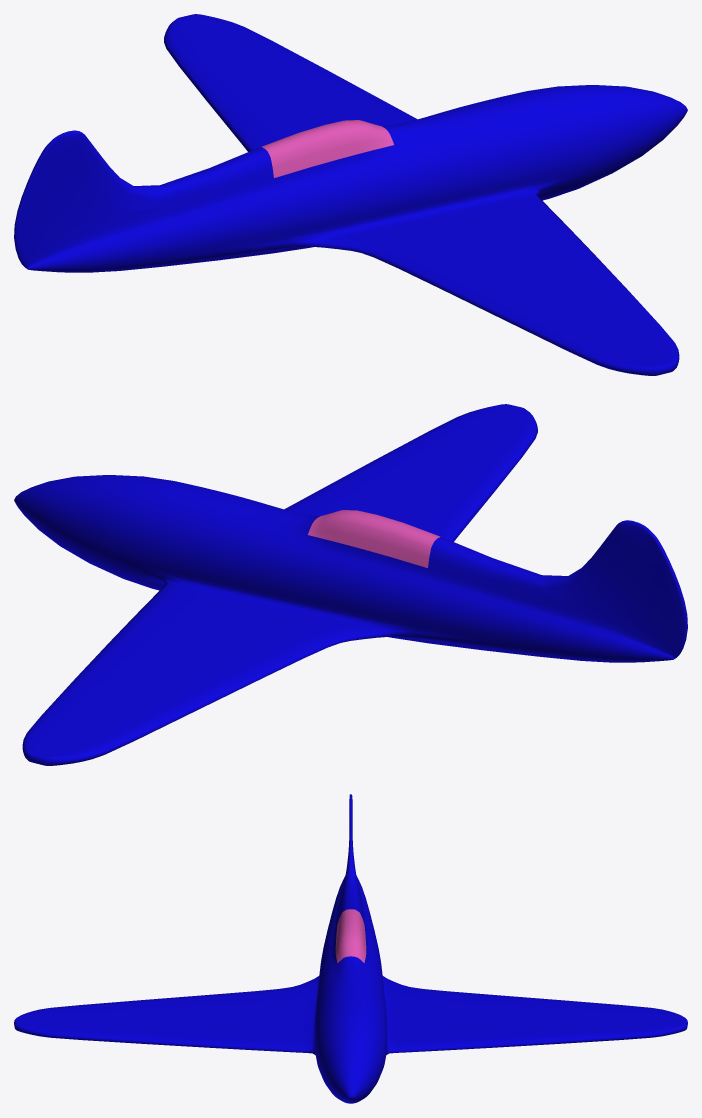
3 views of the same model, one above another, from view 1: azimuth 30°, elevation 25°; view 2: azimuth 150°, elevation 25°; view 3: azimuth 270°, elevation 25° (orthographic). The views are drawn at different scales.
Visible parts, largest first — view 1: planeLP; view 2: planeLP; view 3: planeLP.
Part boxes in pixels (bbox=[...]): planeLP: bbox=[14, 14, 687, 375]; planeLP: bbox=[14, 404, 687, 765]; planeLP: bbox=[14, 794, 687, 1103].
Size of the model in its own units: 345 by 87.95 by 427.
